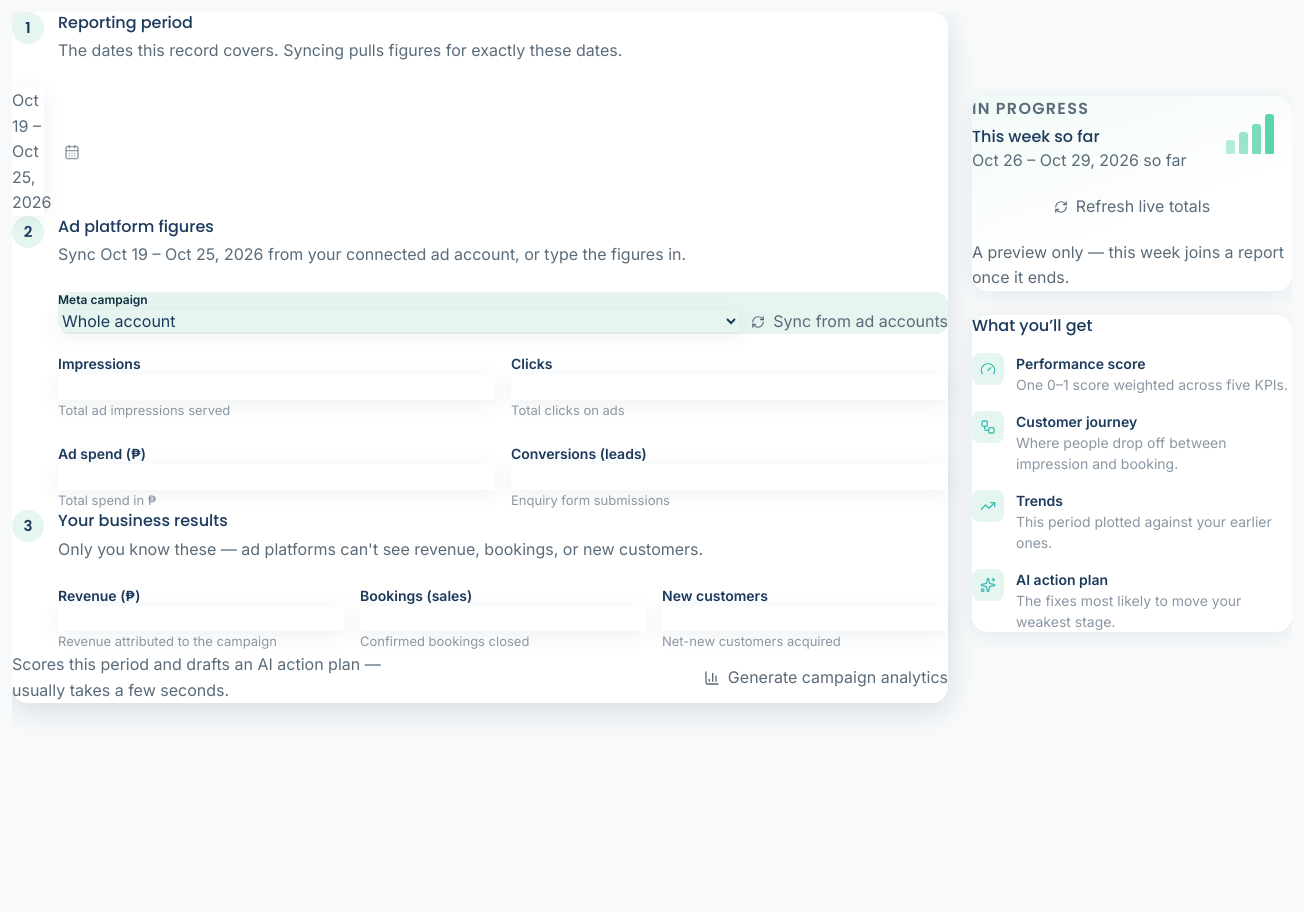
IngestionForm live week-to-date panel › shows a warning and withholds tiles on a currency mismatch
Click the button "Refresh live totals": click(1132, 207) [972, 190, 1292, 224]
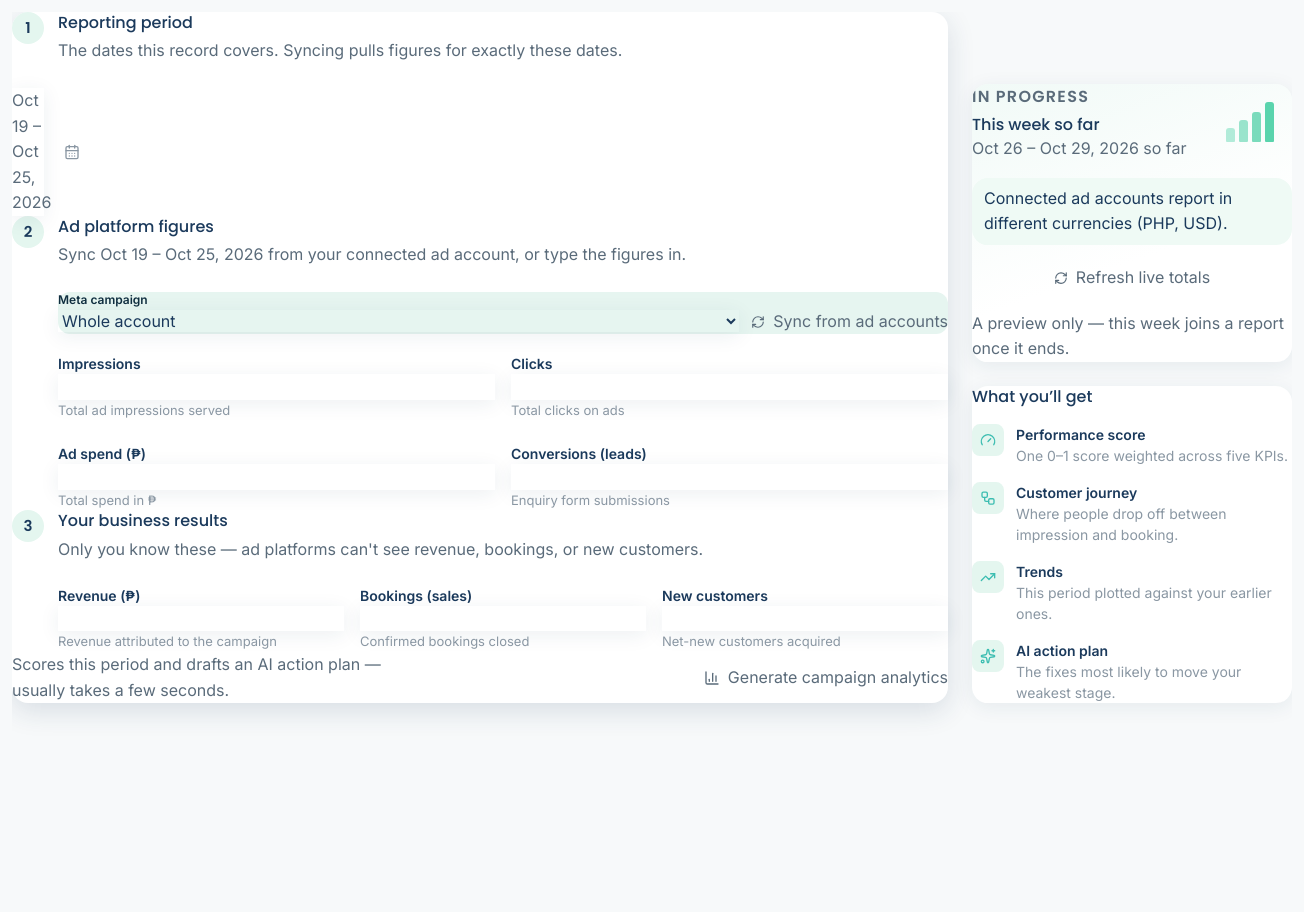
Now the text "different currencies" is shown, box [984, 188, 1232, 233]
